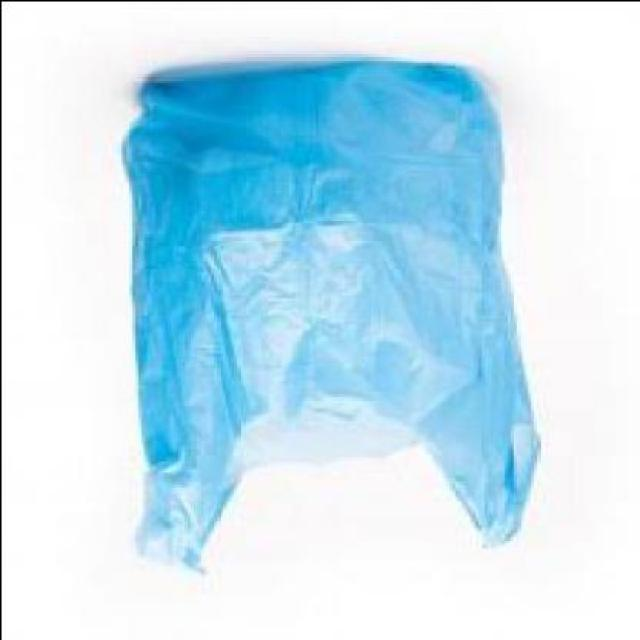PLASTIC: (125, 70, 538, 582)
